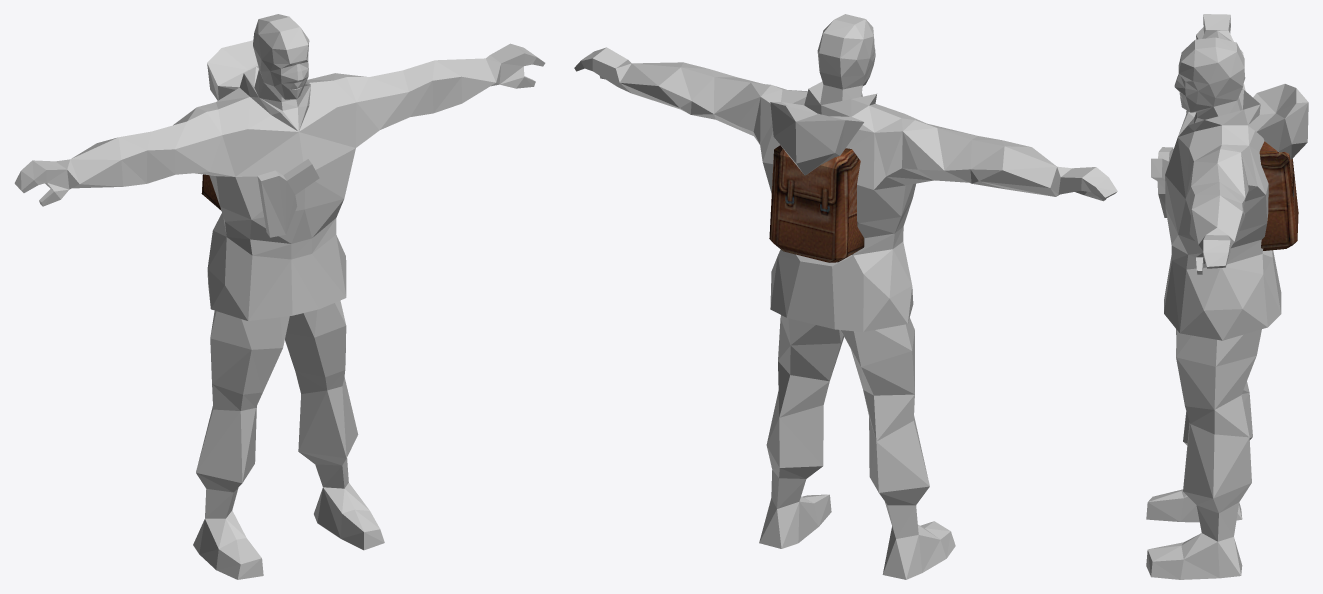
File: TERRORIST_Arctic Avenger.obj
3 renders of one model, left to right at view 1: azimuth 30°, elevation 25°; view 2: azimuth 150°, elevation 25°; view 3: azimuth 270°, elevation 25°, orthographic. The views are drawn at different scales.
Visible parts, largest first — view 1: ARTIC_Working1.BMP_AR; view 2: ARTIC_Working1.BMP_AR, Backpack1.BMP_Backpac; view 3: ARTIC_Working1.BMP_AR, Backpack1.BMP_Backpac.
Part boxes in pixels (x1,y1,x2,y2): ARTIC_Working1.BMP_AR: [14, 14, 545, 579]; ARTIC_Working1.BMP_AR: [574, 14, 1117, 579]; Backpack1.BMP_Backpac: [769, 145, 864, 262]; ARTIC_Working1.BMP_AR: [1146, 14, 1308, 579]; Backpack1.BMP_Backpac: [1259, 141, 1298, 250].
Size of the model in its own units: 1.82 by 1.72 by 0.5036.
